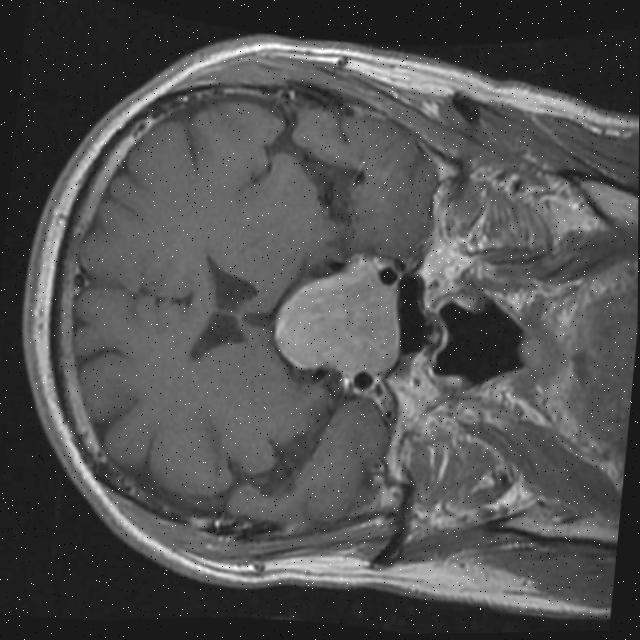Pituitary: (270, 266, 406, 377)
